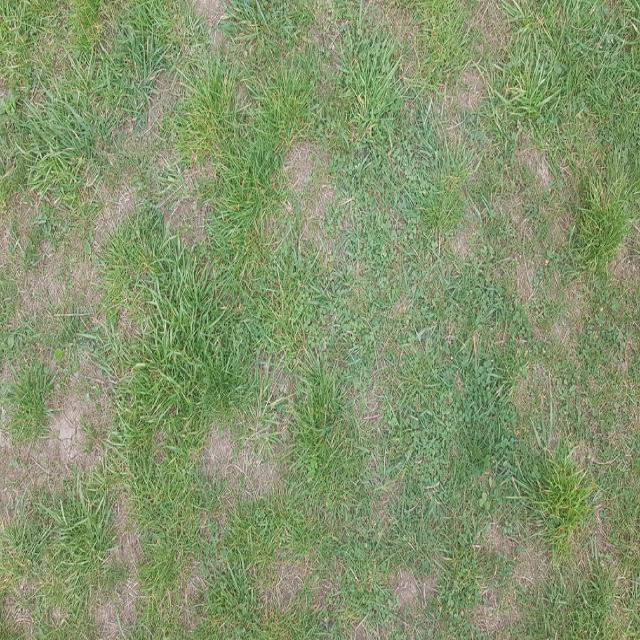white-sand: (0, 166, 137, 334), (0, 340, 112, 533), (88, 497, 143, 639), (201, 426, 238, 491), (285, 141, 328, 194), (166, 178, 203, 236), (236, 444, 277, 496), (389, 570, 436, 612), (301, 182, 336, 238), (481, 590, 519, 637), (470, 0, 502, 54), (444, 68, 483, 111), (611, 237, 639, 296), (513, 545, 545, 587), (279, 558, 311, 599), (4, 595, 32, 635), (192, 0, 224, 28)
